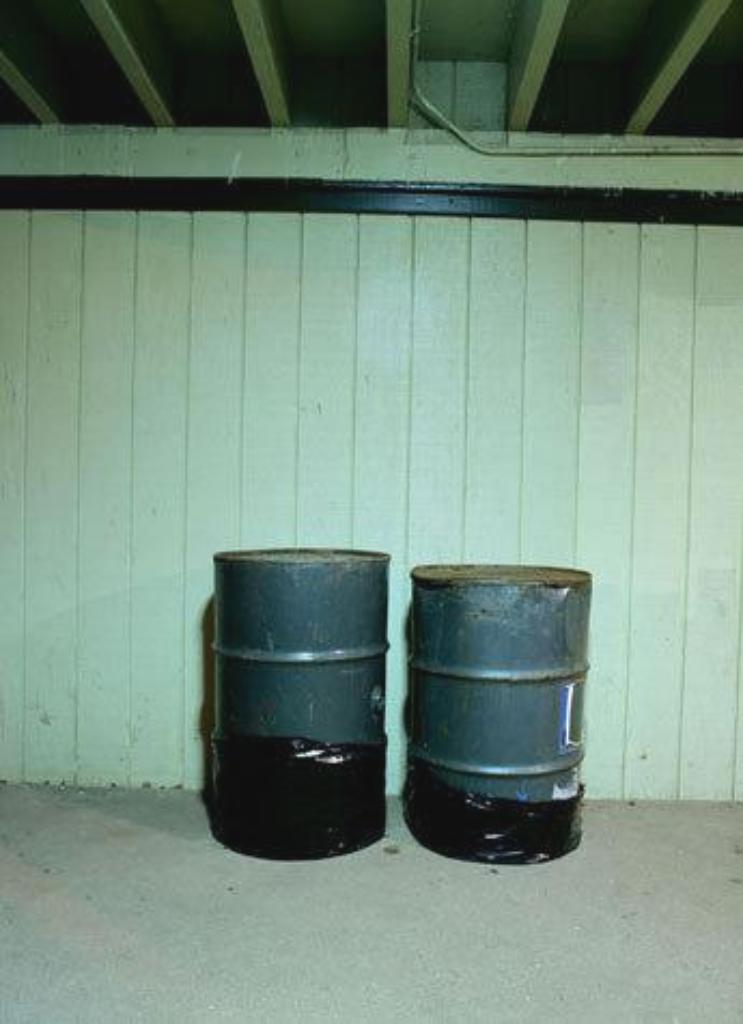dustbin: (207, 526, 388, 866), (406, 554, 598, 864)
